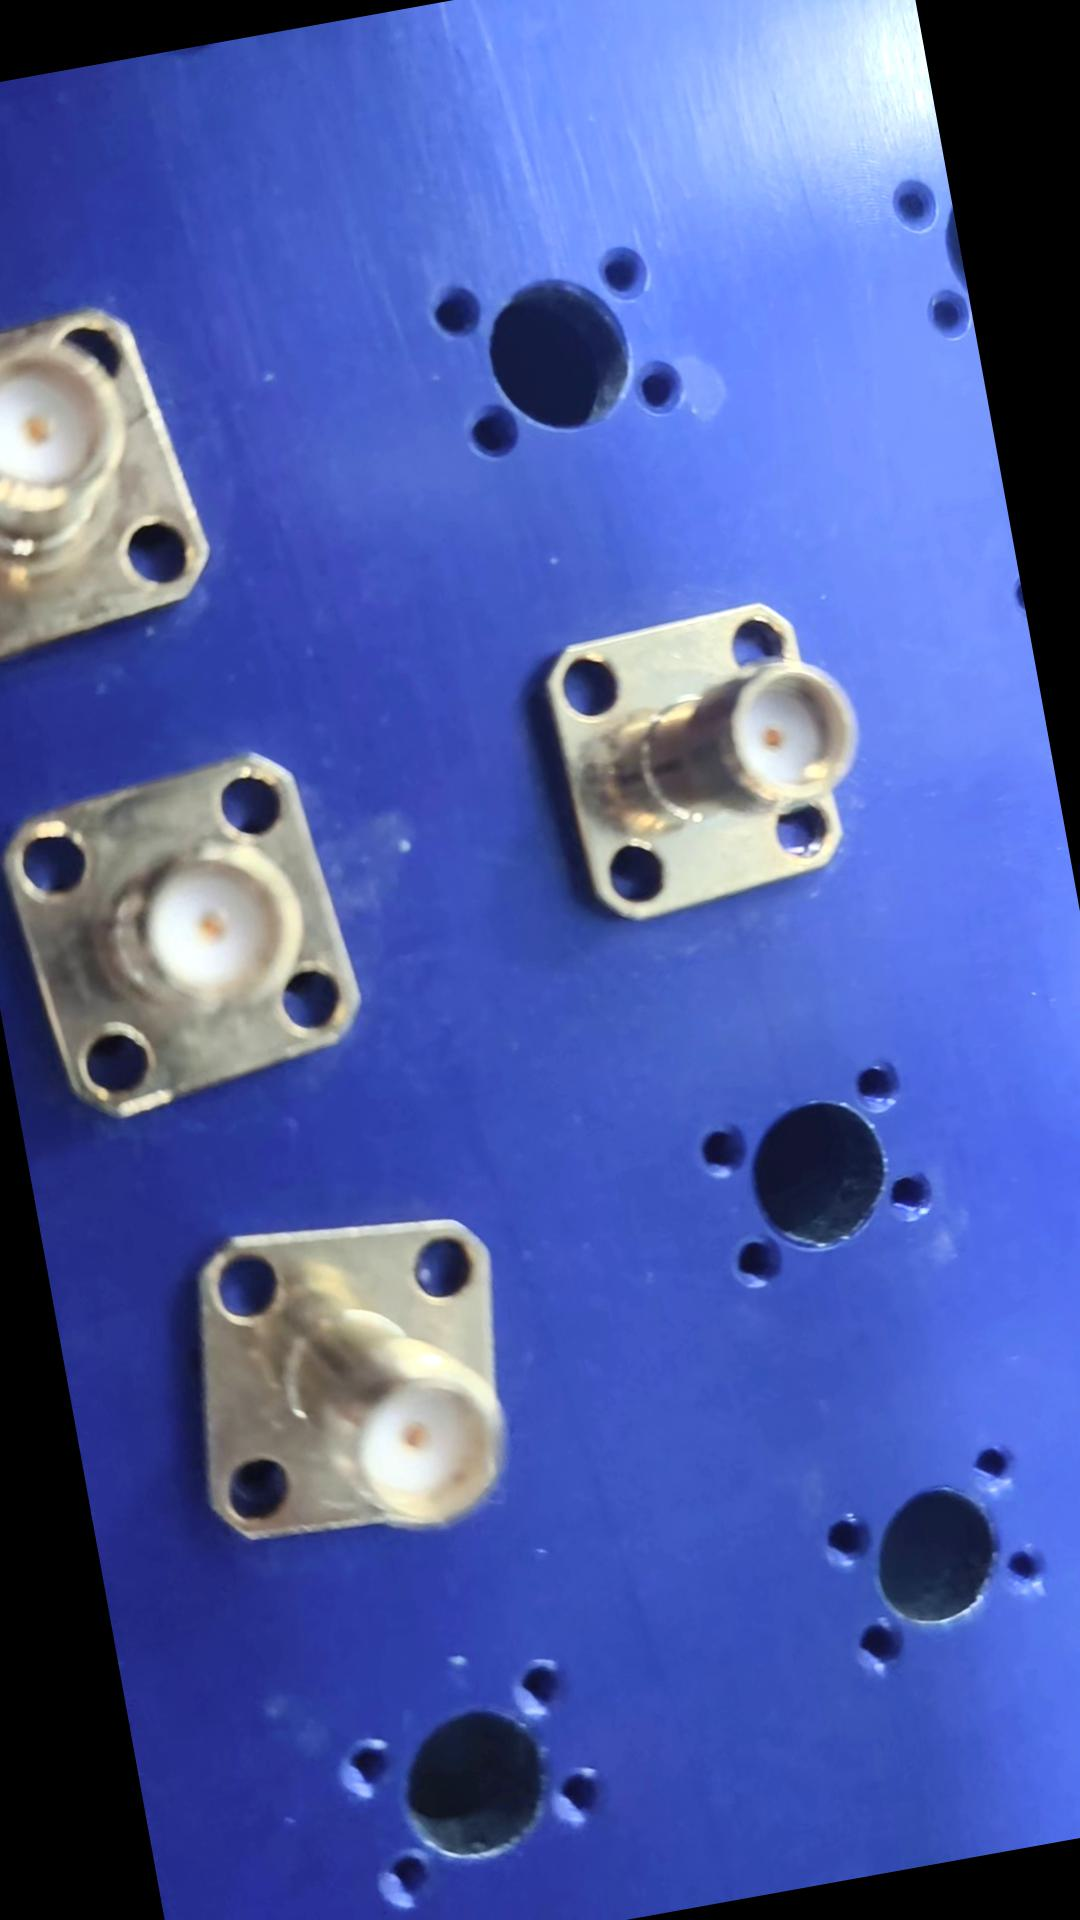SMA: (157, 1195, 560, 1557), (0, 745, 378, 1130), (518, 574, 882, 939), (0, 287, 237, 684)
